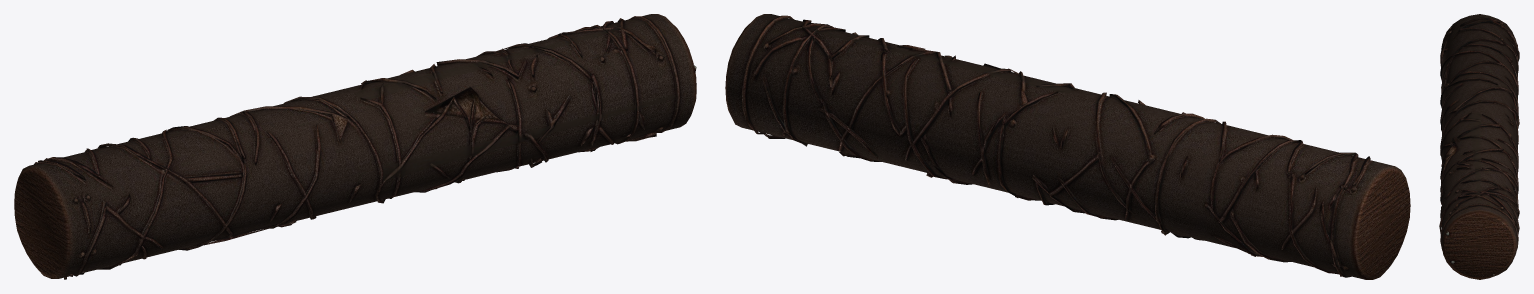
File: tripo_convert_b5be9794-22f3-4915-be9a-5bf17801391e.fbx
3 views of the same model, side by side, from view 1: azimuth 30°, elevation 25°; view 2: azimuth 150°, elevation 25°; view 3: azimuth 270°, elevation 25° (orthographic). The views are drawn at different scales.
Parts seen in each view (by area): view 1: tripo_node_b5be9794; view 2: tripo_node_b5be9794; view 3: tripo_node_b5be9794.
Boxes of the visible parts, <box> form: tripo_node_b5be9794: <box>14,14,696,279</box>; tripo_node_b5be9794: <box>725,14,1410,279</box>; tripo_node_b5be9794: <box>1439,14,1519,279</box>.
Bounding box in the file's own units: 0.998 × 0.166 × 0.1699.
1 material, 1 textured.
